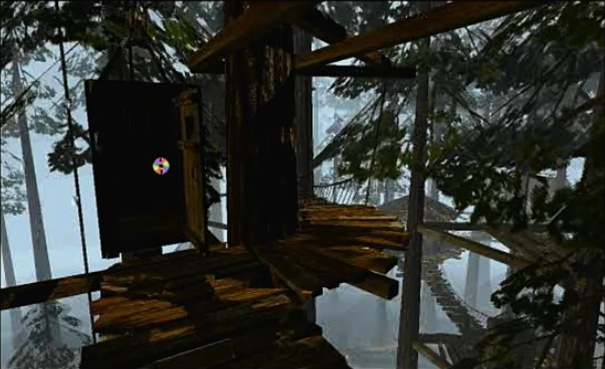Waiting: (150, 154, 173, 177)
